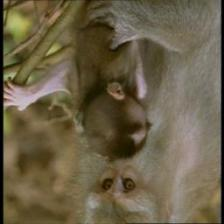monkey: (82, 160, 152, 215), (124, 88, 152, 148)
